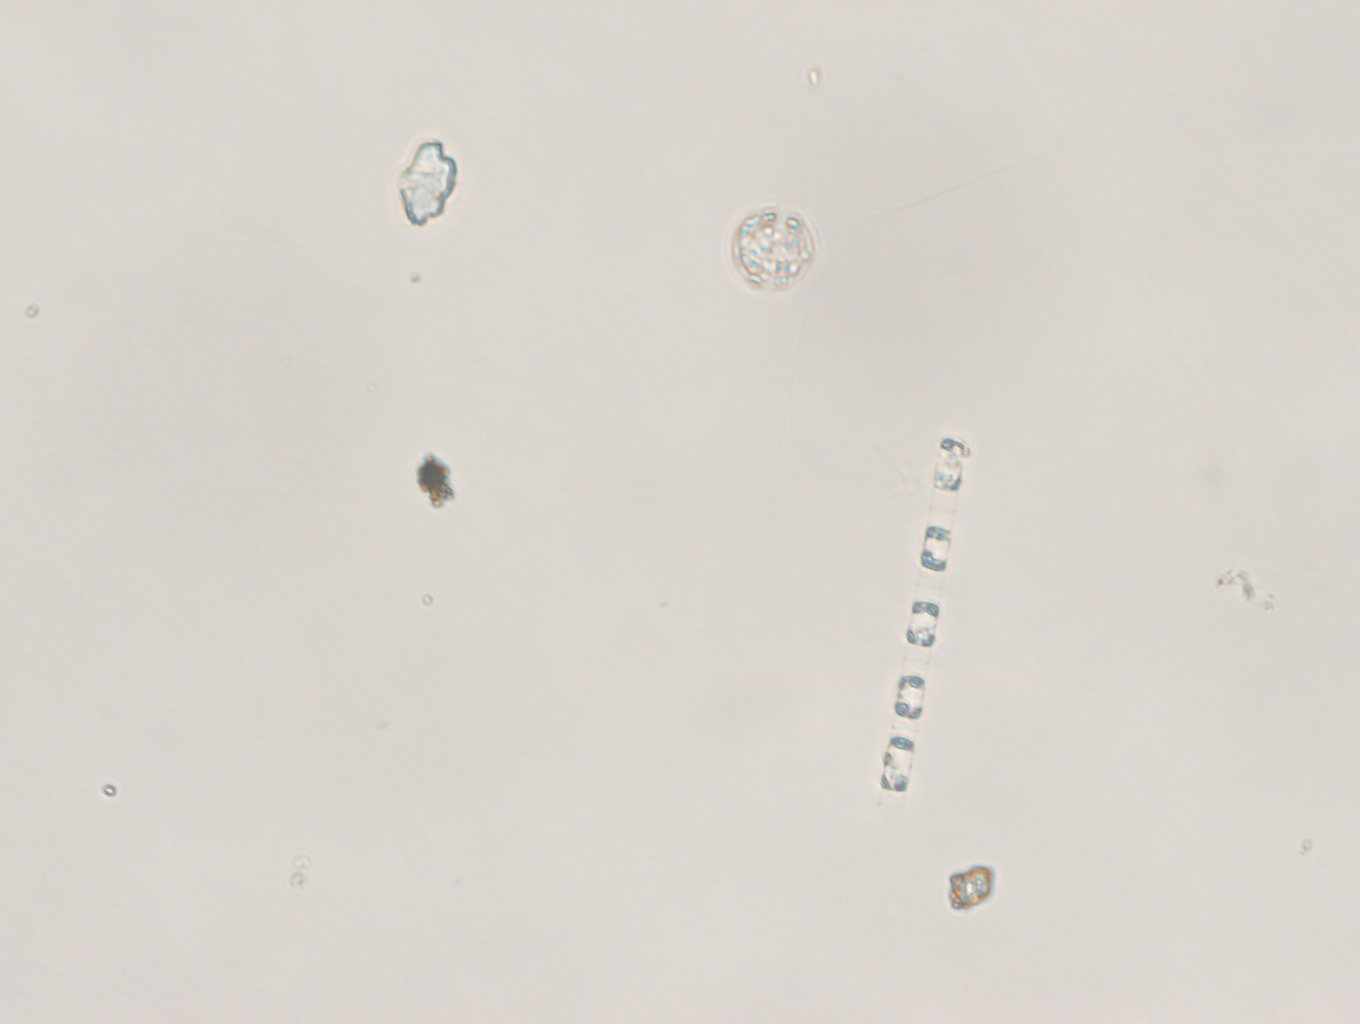skeletonema: (874, 433, 994, 801)
